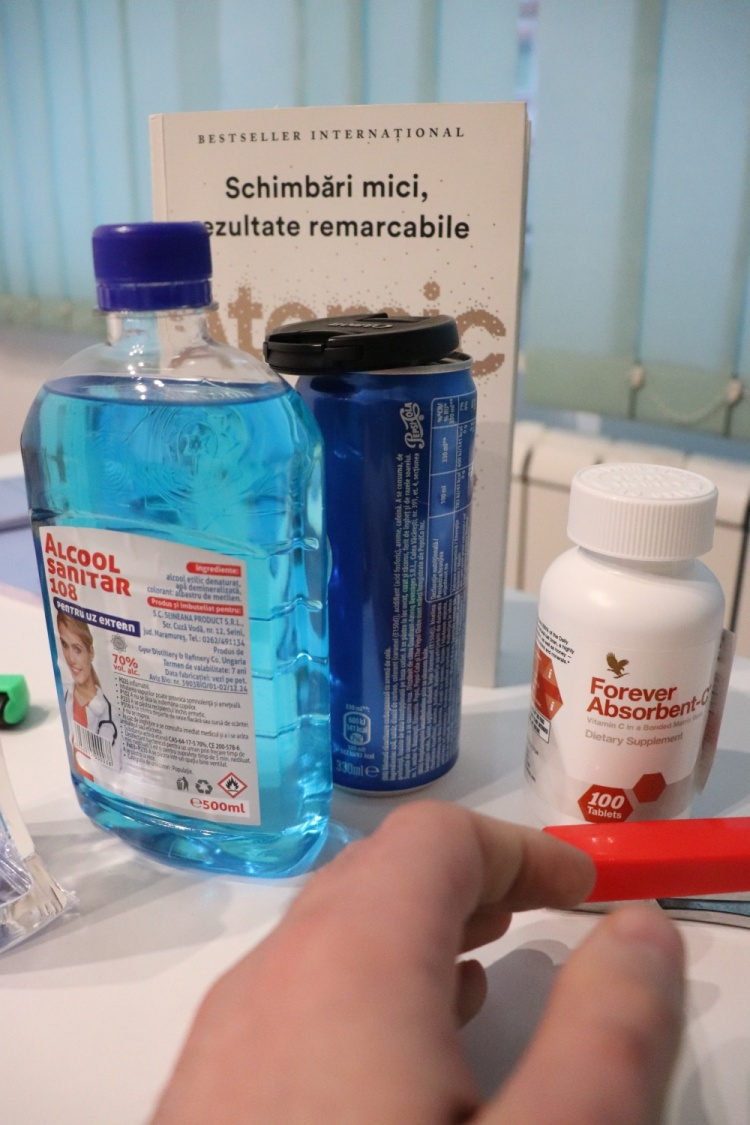pepsi: (298, 367, 483, 797)
